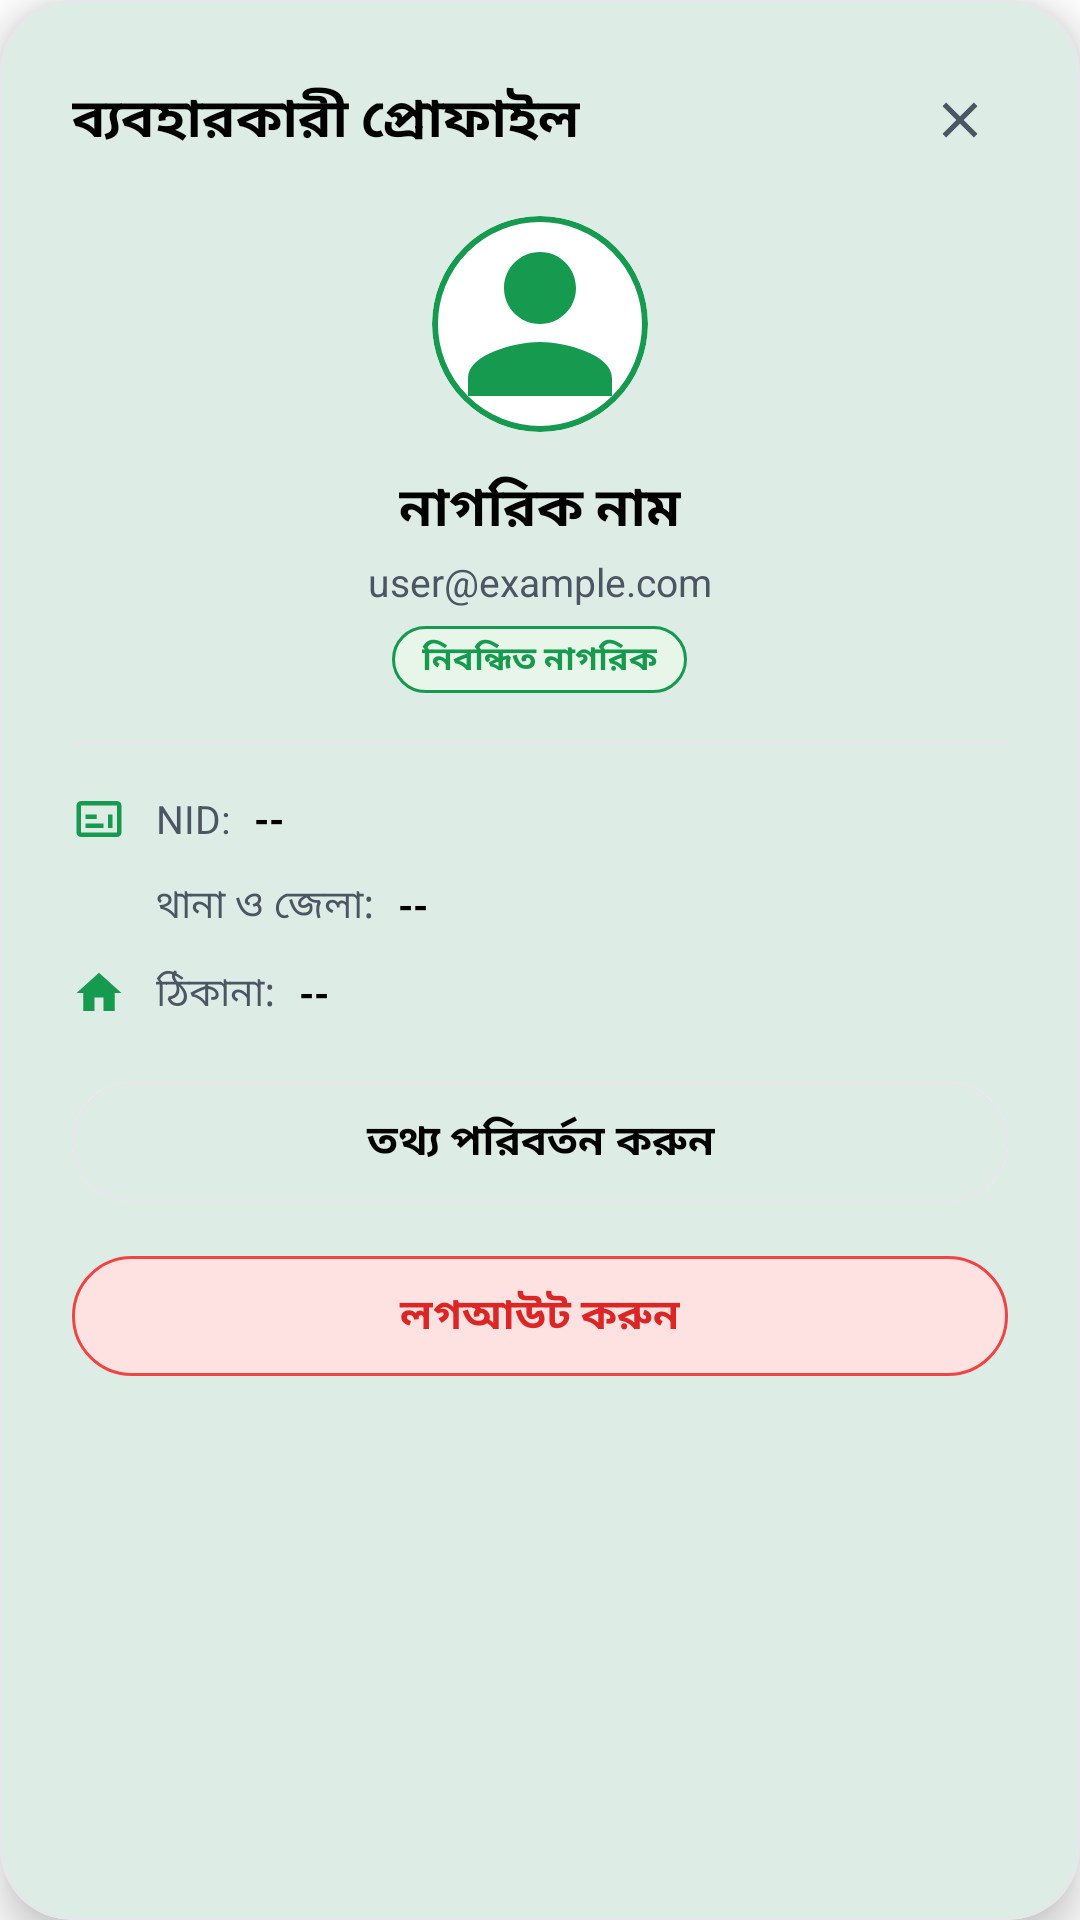

Icon bounding boxes for this 1080px×1920px phone screenshot, format bbox=(x1, y1, x2, y2):
Address: bbox=(77, 973, 121, 1011)
Close: bbox=(942, 102, 978, 138)
